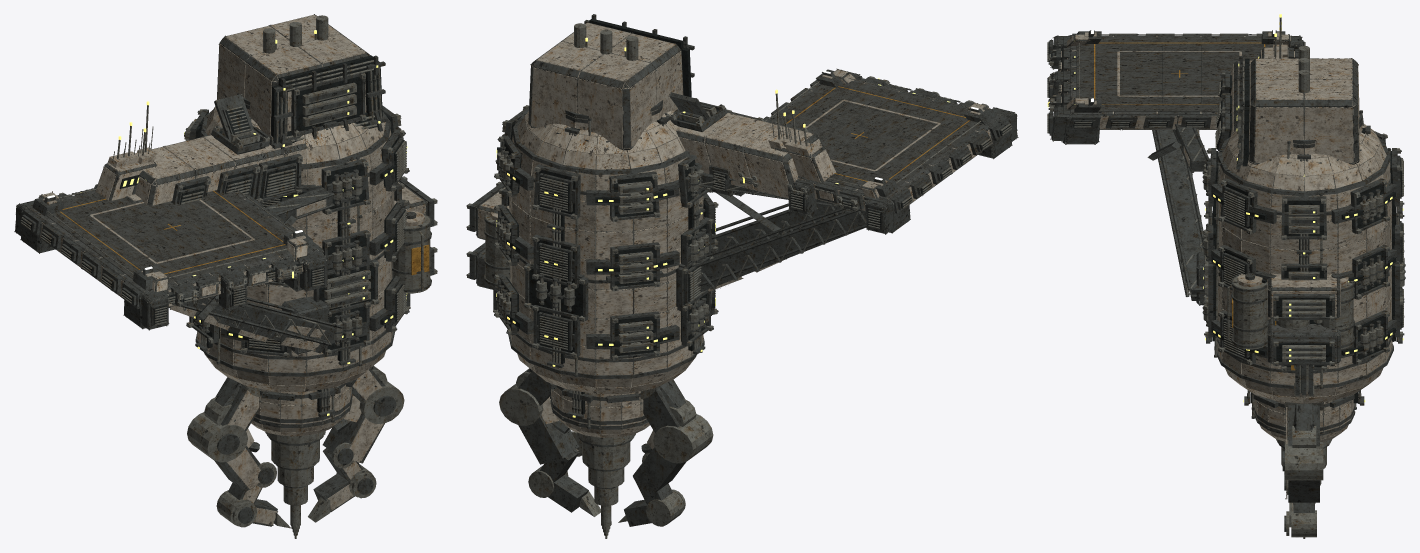
Rendered from rig.glb.
3 renders of one model, left to right at view 1: azimuth 30°, elevation 25°; view 2: azimuth 150°, elevation 25°; view 3: azimuth 270°, elevation 25°, orthographic. The views are drawn at different scales.
Parts seen in each view (by area): view 1: static/dark-structure, static/machined-alloy, static/cladding-armour-1, static/landing-grey, static/recess-black, static/cladding-armour-2, static/cladding-dark-structure, static/cladding-armour-3, static/cladding-armour-0, static/armour-1, static/service-ochre, static/cladding-blue-grey-0; view 2: static/dark-structure, static/machined-alloy, static/cladding-armour-1, static/landing-grey, static/recess-black, static/cladding-armour-2, static/cladding-dark-structure, static/cladding-armour-0, static/cladding-armour-3, static/armour-1; view 3: static/dark-structure, static/cladding-armour-1, static/machined-alloy, static/landing-grey, static/recess-black, static/cladding-dark-structure, static/cladding-armour-0, static/cladding-armour-2, static/cladding-armour-3, static/armour-1, static/cladding-blue-grey-3, static/service-ochre (+3 smaller).
Part boxes in pixels (x1=…): static/dark-structure: x1=15, y1=14, x2=437, y2=526; static/machined-alloy: x1=14, y1=14, x2=437, y2=538; static/cladding-armour-1: x1=40, y1=15, x2=427, y2=524; static/landing-grey: x1=46, y1=190, x2=290, y2=282; static/recess-black: x1=21, y1=55, x2=406, y2=412; static/cladding-armour-2: x1=50, y1=103, x2=392, y2=488; static/cladding-dark-structure: x1=15, y1=15, x2=427, y2=354; static/cladding-armour-3: x1=95, y1=142, x2=385, y2=406; static/cladding-armour-0: x1=84, y1=141, x2=390, y2=424; static/armour-1: x1=42, y1=147, x2=424, y2=447; static/service-ochre: x1=60, y1=190, x2=429, y2=275; static/cladding-blue-grey-0: x1=97, y1=199, x2=270, y2=284; static/dark-structure: x1=466, y1=14, x2=1017, y2=526; static/machined-alloy: x1=467, y1=22, x2=1018, y2=538; static/cladding-armour-1: x1=476, y1=23, x2=989, y2=450; static/landing-grey: x1=770, y1=81, x2=983, y2=189; static/recess-black: x1=476, y1=18, x2=1011, y2=414; static/cladding-armour-2: x1=512, y1=91, x2=992, y2=416; static/cladding-dark-structure: x1=476, y1=23, x2=1017, y2=313; static/cladding-armour-0: x1=511, y1=118, x2=917, y2=425; static/cladding-armour-3: x1=510, y1=82, x2=980, y2=425; static/armour-1: x1=490, y1=73, x2=984, y2=449; static/dark-structure: x1=1047, y1=30, x2=1405, y2=531; static/cladding-armour-1: x1=1066, y1=34, x2=1390, y2=511; static/machined-alloy: x1=1047, y1=17, x2=1404, y2=538; static/landing-grey: x1=1076, y1=36, x2=1273, y2=111; static/recess-black: x1=1048, y1=41, x2=1402, y2=403; static/cladding-dark-structure: x1=1051, y1=35, x2=1359, y2=363; static/cladding-armour-0: x1=1067, y1=47, x2=1391, y2=431; static/cladding-armour-2: x1=1072, y1=36, x2=1391, y2=499; static/cladding-armour-3: x1=1072, y1=36, x2=1392, y2=431; static/armour-1: x1=1061, y1=32, x2=1348, y2=287; static/cladding-blue-grey-3: x1=1070, y1=35, x2=1340, y2=362; static/service-ochre: x1=1094, y1=42, x2=1295, y2=370.
Size of the model in its own units: 627 by 741 by 503.
Materials: 15 (13 with a texture image).
